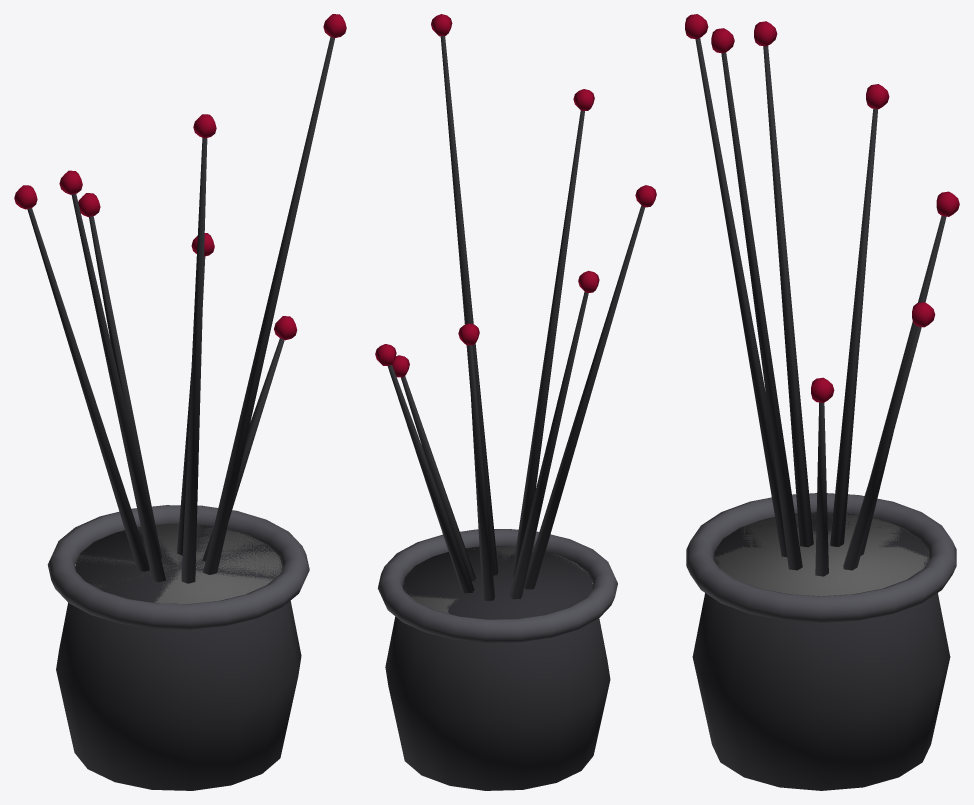
Rendered from withered_plant_thorn_pot.glb.
3 renders of one model, left to right at view 1: azimuth 30°, elevation 25°; view 2: azimuth 150°, elevation 25°; view 3: azimuth 270°, elevation 25°, orthographic. The views are drawn at different scales.
Parts seen in each view (by area): view 1: GD_withered_plant_thorn_pot__m0, GD_withered_plant_thorn_pot__m1, GD_withered_plant_thorn_pot__m3, GD_withered_plant_thorn_pot__m2; view 2: GD_withered_plant_thorn_pot__m0, GD_withered_plant_thorn_pot__m1, GD_withered_plant_thorn_pot__m2, GD_withered_plant_thorn_pot__m3; view 3: GD_withered_plant_thorn_pot__m0, GD_withered_plant_thorn_pot__m1, GD_withered_plant_thorn_pot__m3, GD_withered_plant_thorn_pot__m2.
Boxes of the visible parts, box(x1,y1,x2,y2) form: GD_withered_plant_thorn_pot__m0: box(27, 36, 334, 790); GD_withered_plant_thorn_pot__m1: box(47, 505, 309, 629); GD_withered_plant_thorn_pot__m3: box(76, 523, 281, 603); GD_withered_plant_thorn_pot__m2: box(14, 14, 346, 340); GD_withered_plant_thorn_pot__m0: box(385, 36, 645, 790); GD_withered_plant_thorn_pot__m1: box(377, 529, 617, 642); GD_withered_plant_thorn_pot__m2: box(375, 14, 656, 377); GD_withered_plant_thorn_pot__m3: box(403, 546, 588, 613); GD_withered_plant_thorn_pot__m0: box(692, 38, 950, 790); GD_withered_plant_thorn_pot__m1: box(686, 493, 956, 622); GD_withered_plant_thorn_pot__m3: box(714, 512, 928, 596); GD_withered_plant_thorn_pot__m2: box(685, 14, 959, 402).
Size of the model in its own units: 0.4922 by 1.32 by 0.4265.
